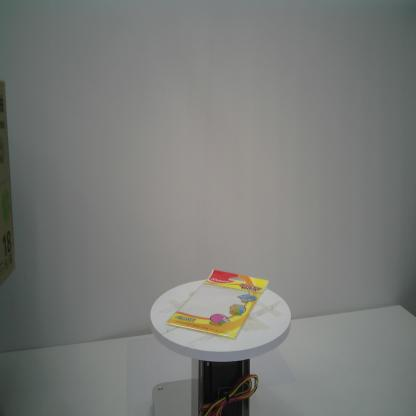Stationery: (164, 267, 270, 340)
